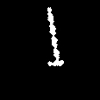half_double_crochet: (48, 7, 63, 65)
